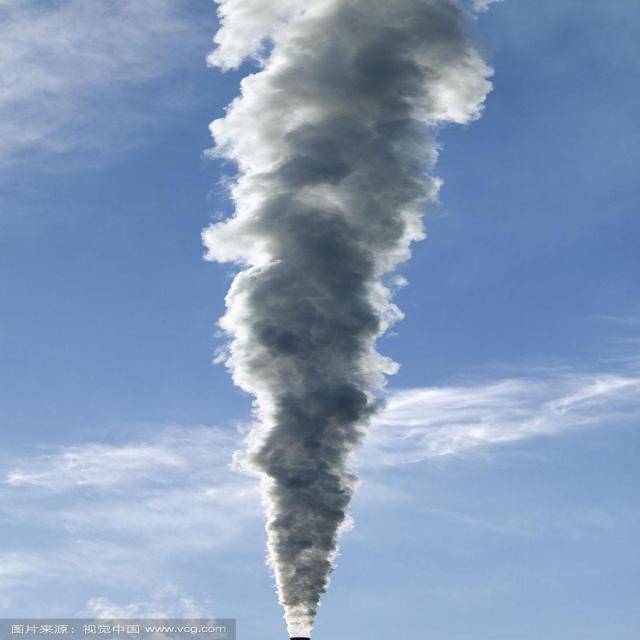Smoke: (198, 0, 506, 638)
